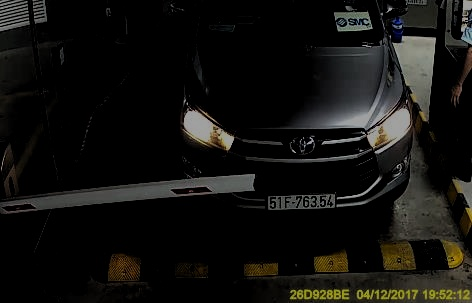plate: (263, 184, 342, 214)
